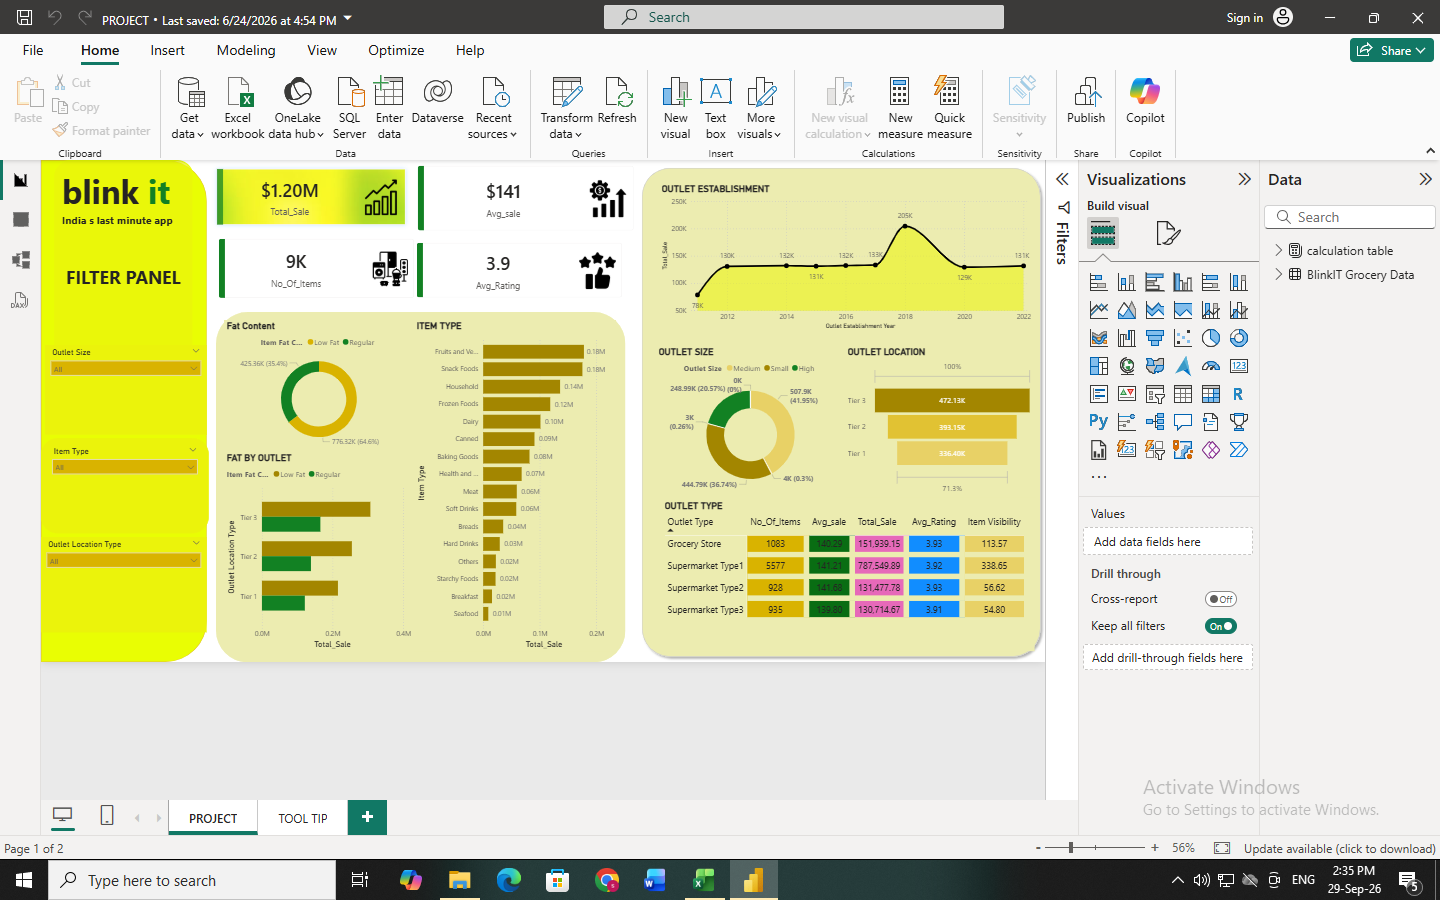

The page's visual inventory and layout, read from the dashboard file:
{"tool":"powerbi","page":{"name":"PROJECT ","canvas":[1800,900],"ordinal":0},"visuals":[{"type":"cardVisual","fields":{"Data":["calculation table.Total_Sale"]},"box":[300,0,370,132],"z":0},{"type":"cardVisual","fields":{"Data":["calculation table.Avg_sale","calculation table.Avg_sale"]},"box":[670.6,5.9,397.1,126.5],"z":1000},{"type":"cardVisual","fields":{"Data":["calculation table.Avg_Rating"]},"box":[668,144,378,108],"z":2000},{"type":"areaChart","title":"OUTLET ESTABLISHMENT","fields":{"Category":["BlinkIT Grocery Data.Outlet Establishment Year"],"Y":["calculation table.Total_Sale"]},"box":[1108.6,41.9,671.7,267.1],"z":3000,"group":"g4"},{"type":"cardVisual","fields":{"Data":["calculation table.No_Of_Items"]},"box":[314,136,360,116],"z":3000},{"type":"group","id":"g1","title":"Group 2","box":[0,0,302,900],"z":4000},{"type":"donutChart","title":"Fat Content","fields":{"Category":["BlinkIT Grocery Data.Item Fat Content"],"Y":["calculation table.Total_Sale"]},"box":[328,286,340.5,236.1],"z":4000,"group":"g3"},{"type":"donutChart","title":"OUTLET SIZE","fields":{"Y":["calculation table.Total_Sale","calculation table.No_Of_Items","calculation table.Avg_sale","calculation table.Avg_Rating","calculation table.Avg_Visibility"],"Category":["BlinkIT Grocery Data.Outlet Size"]},"box":[1102.7,333.3,339,270.8],"z":4000,"group":"g4"},{"type":"group","id":"g2","title":"Group 4","box":[1068,6,732,894],"z":5000},{"type":"clusteredBarChart","title":"ITEM TYPE","fields":{"Category":["BlinkIT Grocery Data.Item Type"],"Y":["calculation table.Total_Sale"]},"box":[668.5,286,361.5,594],"z":5000,"group":"g3"},{"type":"funnel","title":"OUTLET LOCATION","fields":{"Category":["BlinkIT Grocery Data.Outlet Location Type","BlinkIT Grocery Data.Item Fat Content"],"Y":["calculation table.Total_Sale"]},"box":[1442,334,341,270.8],"z":5000,"group":"g4"},{"type":"shape","box":[314,272,734,628],"z":6000},{"type":"clusteredBarChart","title":"FAT BY OUTLET","fields":{"Y":["calculation table.Total_Sale"],"Series":["BlinkIT Grocery Data.Item Fat Content"],"Category":["BlinkIT Grocery Data.Outlet Location Type"]},"box":[328,522.1,340.5,357.9],"z":6000,"group":"g3"},{"type":"group","id":"g3","title":"Group 5","box":[328,286,702,594],"z":7000},{"type":"shape","box":[1068,6,732.4,894.1],"z":8000,"group":"g2"},{"type":"pivotTable","title":"OUTLET TYPE","fields":{"Rows":["BlinkIT Grocery Data.Outlet Type"],"Values":["calculation table.No_Of_Items","calculation table.Avg_sale","calculation table.Total_Sale","calculation table.Avg_Rating","Sum(BlinkIT Grocery Data.Item Visibility)"]},"box":[1113.3,610.4,668.2,270.8],"z":8000,"group":"g4"},{"type":"group","id":"g4","title":"Group 3","box":[1102.7,41.9,678.7,839.3],"z":8001,"group":"g2"},{"type":"shape","box":[0,0,297.5,900],"z":13000,"group":"g1"},{"type":"slicer","fields":{"Values":["BlinkIT Grocery Data.Outlet Size"]},"box":[7.8,332.1,289.6,161.1],"z":14000,"group":"g5"},{"type":"textbox","box":[21.5,0,252.4,383.6],"z":15500,"group":"g1"},{"type":"slicer","fields":{"Values":["BlinkIT Grocery Data.Outlet Location Type"]},"box":[0,675.8,297.5,171],"z":16000,"group":"g5"},{"type":"slicer","fields":{"Values":["BlinkIT Grocery Data.Item Type"]},"box":[0,498.2,301.4,171],"z":16500,"group":"g5"},{"type":"group","id":"g5","title":"Group 1","box":[0,332.1,301.4,514.8],"z":16501,"group":"g1"}]}

Visuals, with their boxes on the page's 1800x900 design canvas (x1, y1, x2, y2). These are canvas units, not pixel positions in the 1440x900 screenshot, which may show the page scaled, cropped or inside an application window:
cardVisual - calculation table.Total_Sale: <region>300, 0, 670, 132</region>
cardVisual - calculation table.Avg_sale x calculation table.Avg_sale: <region>671, 6, 1068, 132</region>
cardVisual - calculation table.Avg_Rating: <region>668, 144, 1046, 252</region>
"OUTLET ESTABLISHMENT" areaChart: <region>1109, 42, 1780, 309</region>
cardVisual - calculation table.No_Of_Items: <region>314, 136, 674, 252</region>
"Group 2" group: <region>0, 0, 302, 900</region>
"Fat Content" donutChart: <region>328, 286, 668, 522</region>
"OUTLET SIZE" donutChart: <region>1103, 333, 1442, 604</region>
"Group 4" group: <region>1068, 6, 1800, 900</region>
"ITEM TYPE" clusteredBarChart: <region>668, 286, 1030, 880</region>
"OUTLET LOCATION" funnel: <region>1442, 334, 1783, 605</region>
shape: <region>314, 272, 1048, 900</region>
"FAT BY OUTLET" clusteredBarChart: <region>328, 522, 668, 880</region>
"Group 5" group: <region>328, 286, 1030, 880</region>
shape: <region>1068, 6, 1800, 900</region>
"OUTLET TYPE" pivotTable: <region>1113, 610, 1782, 881</region>
"Group 3" group: <region>1103, 42, 1781, 881</region>
shape: <region>0, 0, 298, 900</region>
slicer - BlinkIT Grocery Data.Outlet Size: <region>8, 332, 297, 493</region>
textbox: <region>22, 0, 274, 384</region>
slicer - BlinkIT Grocery Data.Outlet Location Type: <region>0, 676, 298, 847</region>
slicer - BlinkIT Grocery Data.Item Type: <region>0, 498, 301, 669</region>
"Group 1" group: <region>0, 332, 301, 847</region>
